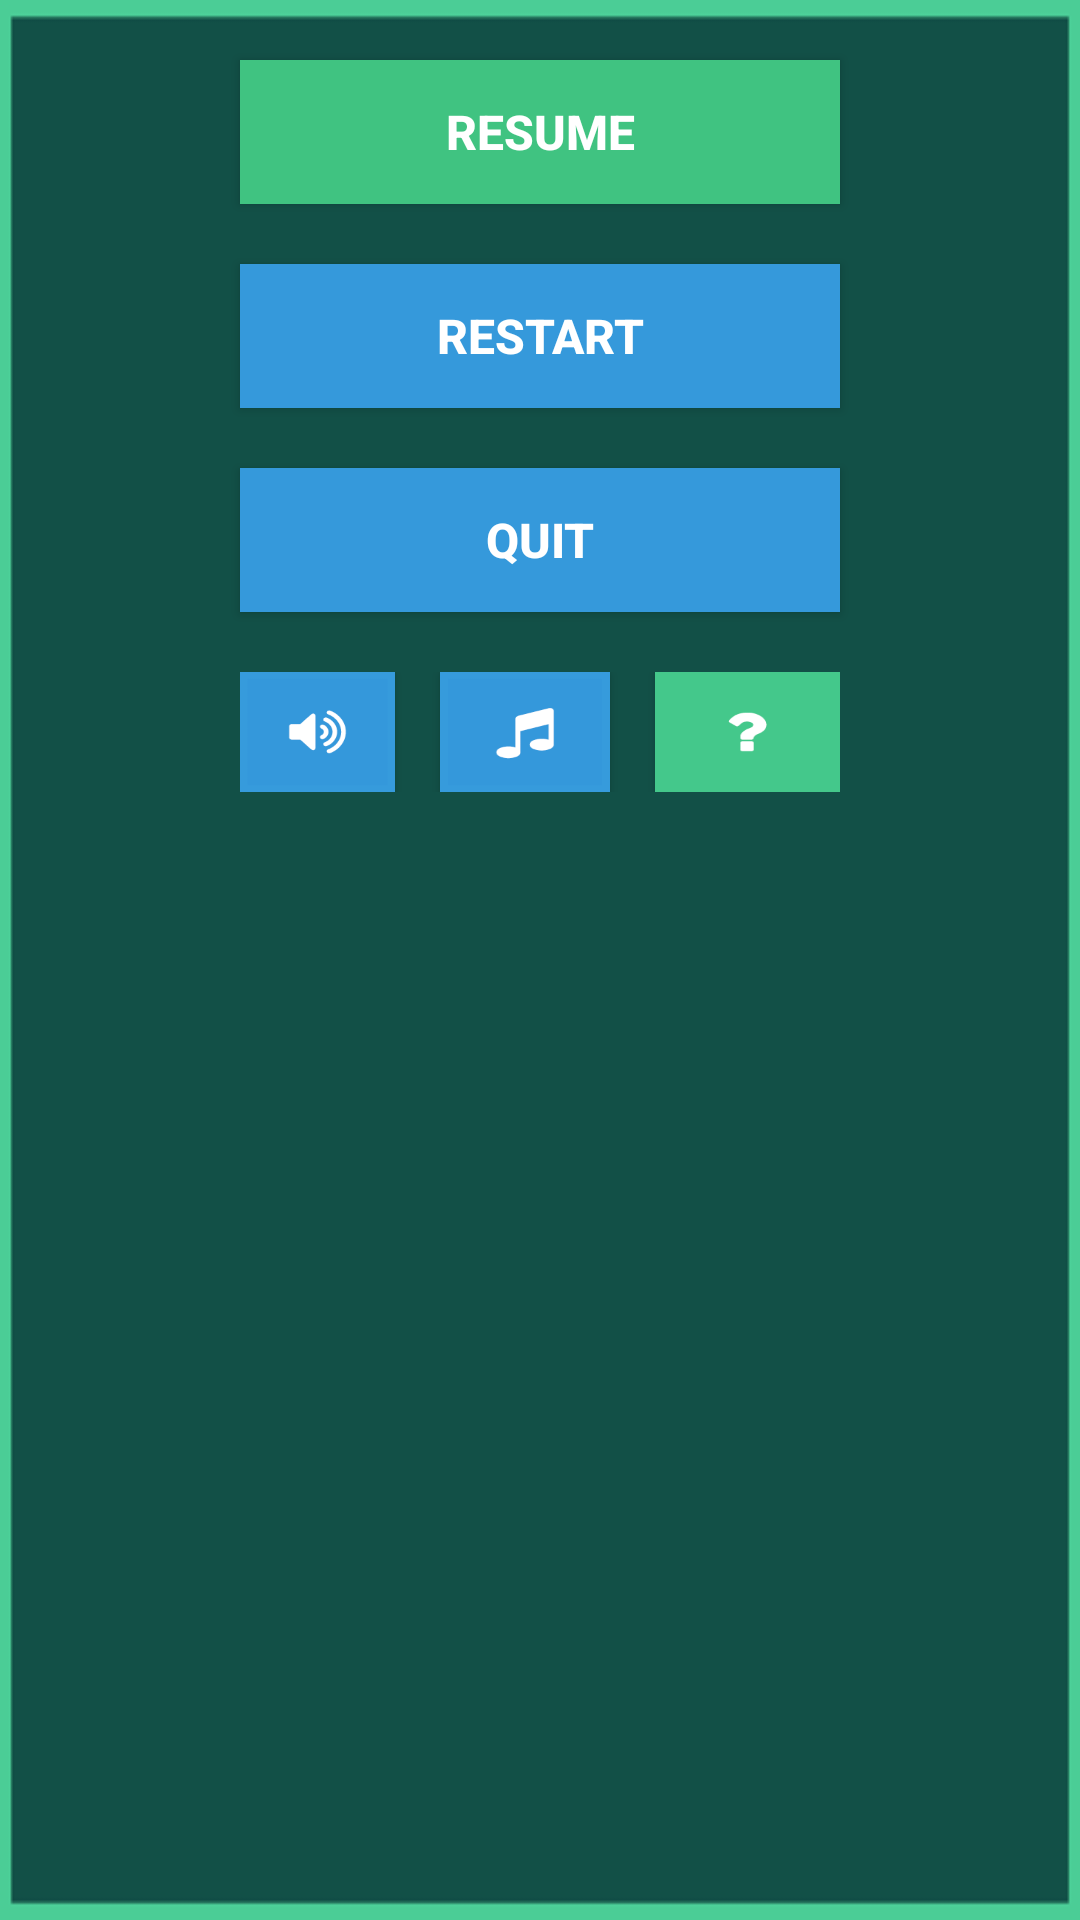

Icons on this 1080x1920 Android screen, each with the point to tap as [x,y]:
rules: [747,732]
